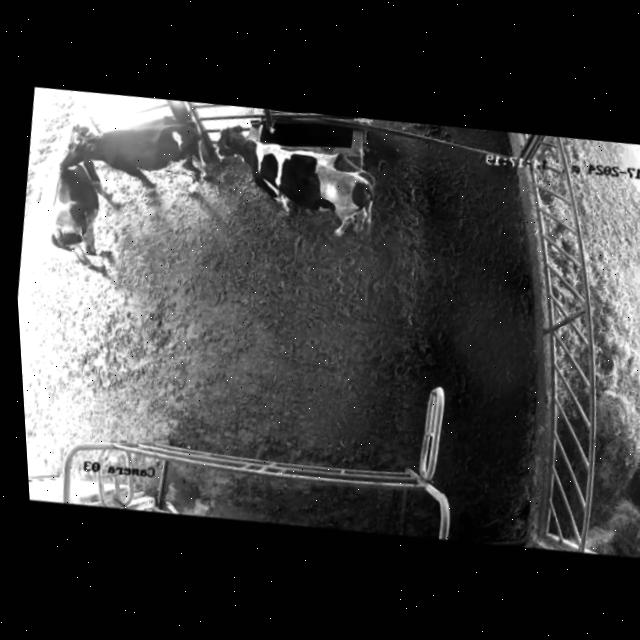propping: (52, 117, 123, 188)
stand: (193, 105, 405, 266), (30, 109, 134, 289)
